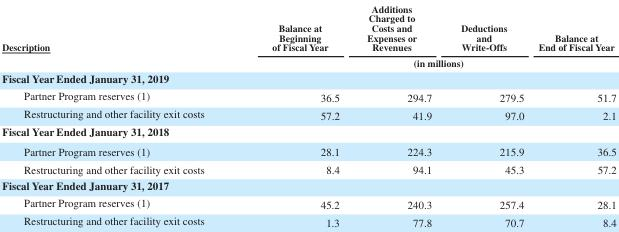table: (1, 1, 615, 229)
table column: (1, 1, 237, 229), (237, 1, 352, 229), (352, 1, 445, 229), (445, 1, 530, 229), (530, 1, 615, 229)
table column header: (1, 1, 615, 70)
table projected row header: (1, 123, 615, 141), (1, 176, 615, 193), (1, 70, 615, 86)
table row: (1, 1, 615, 54), (1, 86, 615, 105), (1, 105, 615, 123), (1, 123, 615, 141), (1, 141, 615, 159), (1, 193, 615, 211), (1, 211, 615, 229), (1, 159, 615, 176), (1, 176, 615, 193), (1, 54, 615, 70), (1, 70, 615, 86)
table spanning cell: (1, 1, 237, 70), (237, 54, 615, 70)
